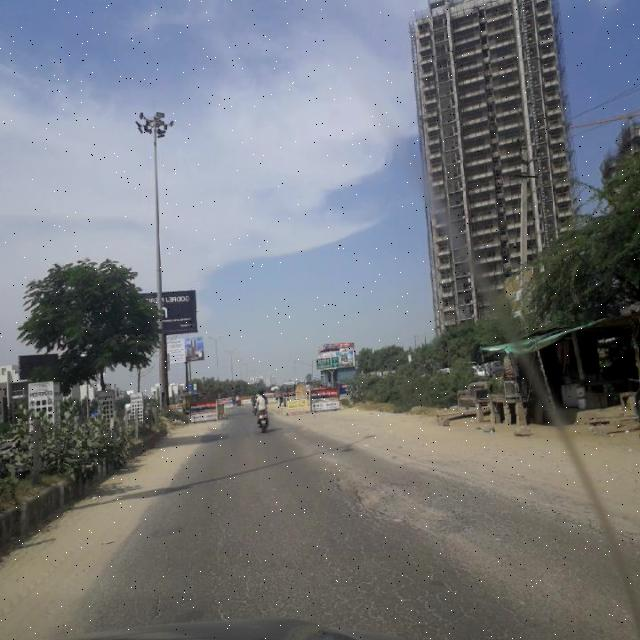D00: (149, 588, 167, 625)
D20: (191, 500, 511, 626)
D40: (314, 452, 488, 540)
